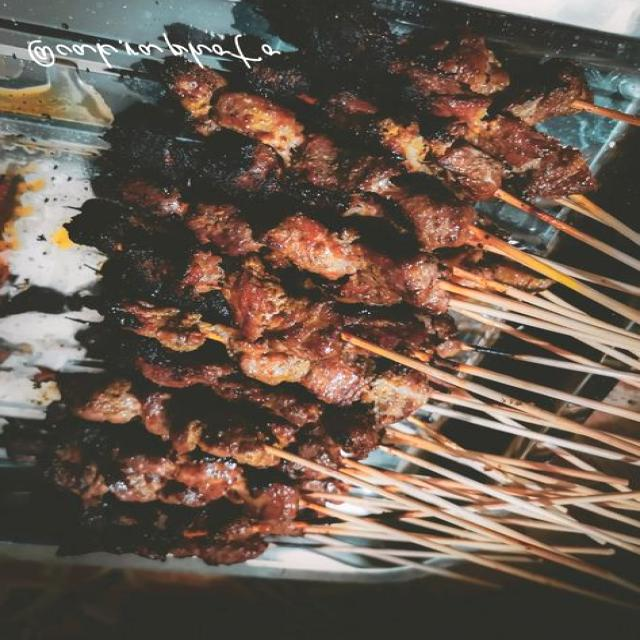sate: (80, 103, 638, 563)
